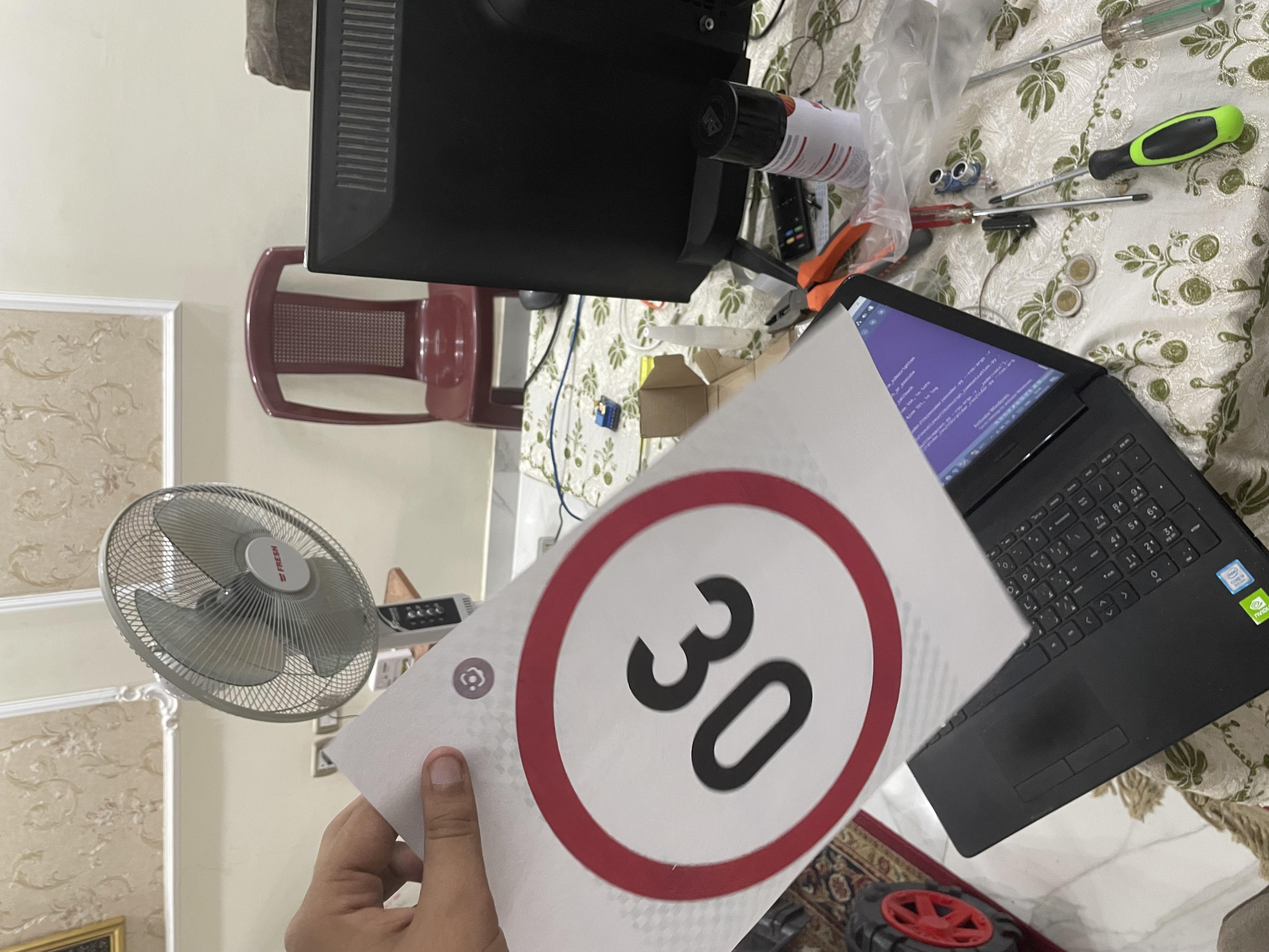30-speed: (66, 381, 651, 677)
